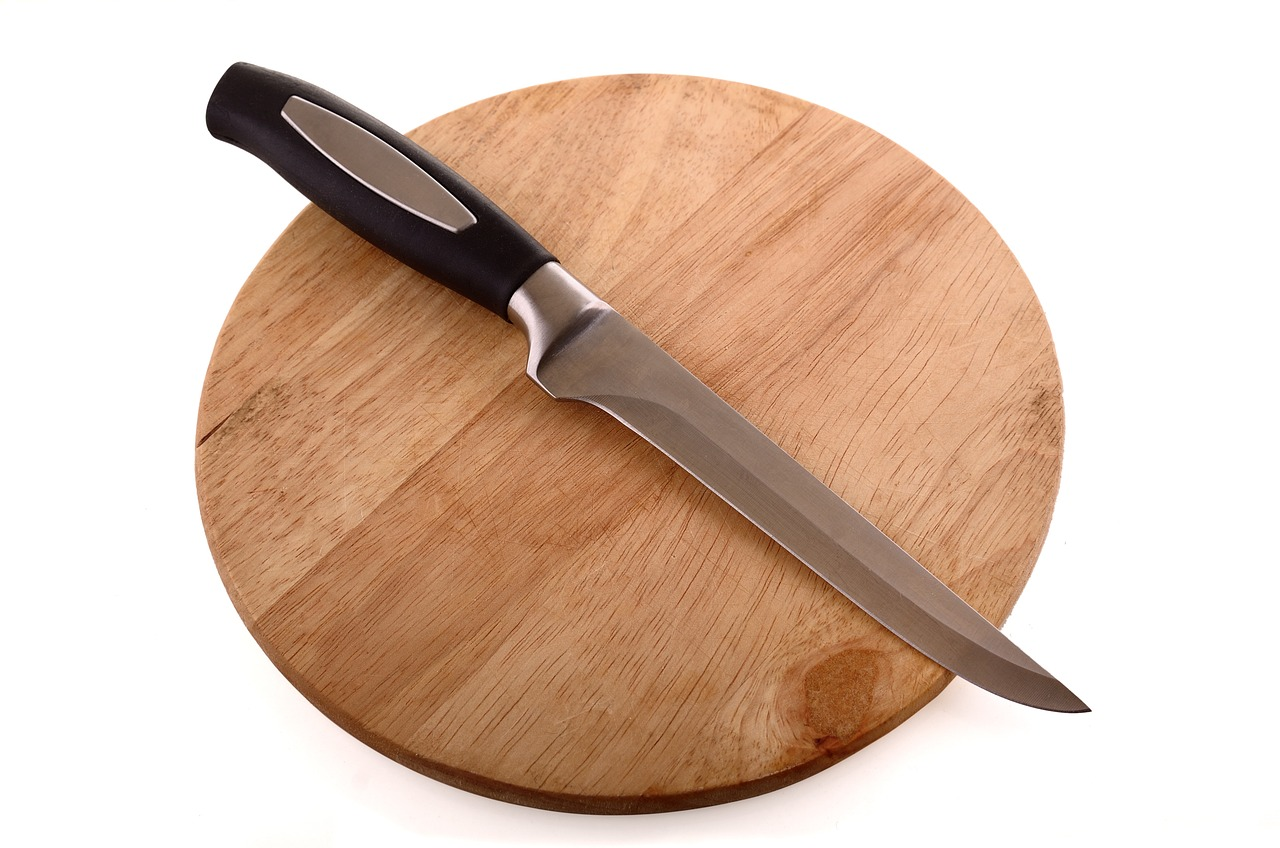knife: (171, 35, 1096, 726)
